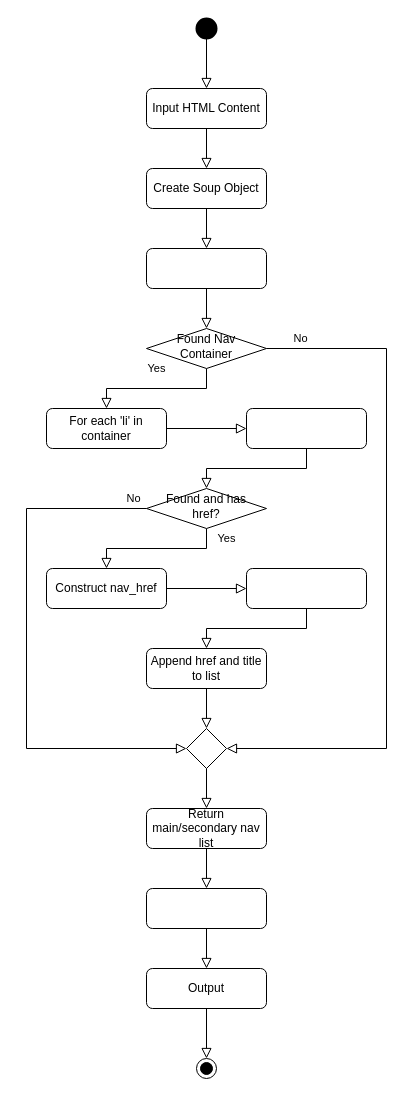
The diagram is 414 pixels wide and 1096 high, and some of its shapes have lost their labels. The shapes that lost their labels are listed below. From the top down, each one's box as (x1, y1, x2, y2) in pixels, then its label:
(146, 248, 266, 288): Extract Main/Secondary Navigation
(246, 408, 366, 448): Find 'a' tag with class
(246, 568, 366, 608): Find 'span' for title
(146, 888, 266, 928): Compile Results
